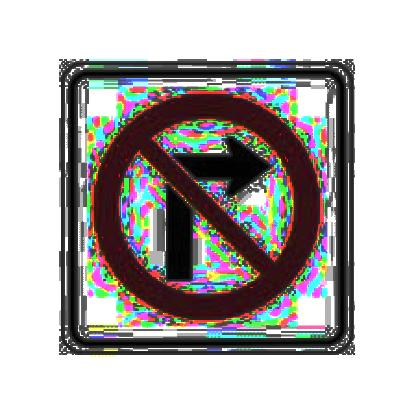No right turn: (70, 67, 336, 341)
